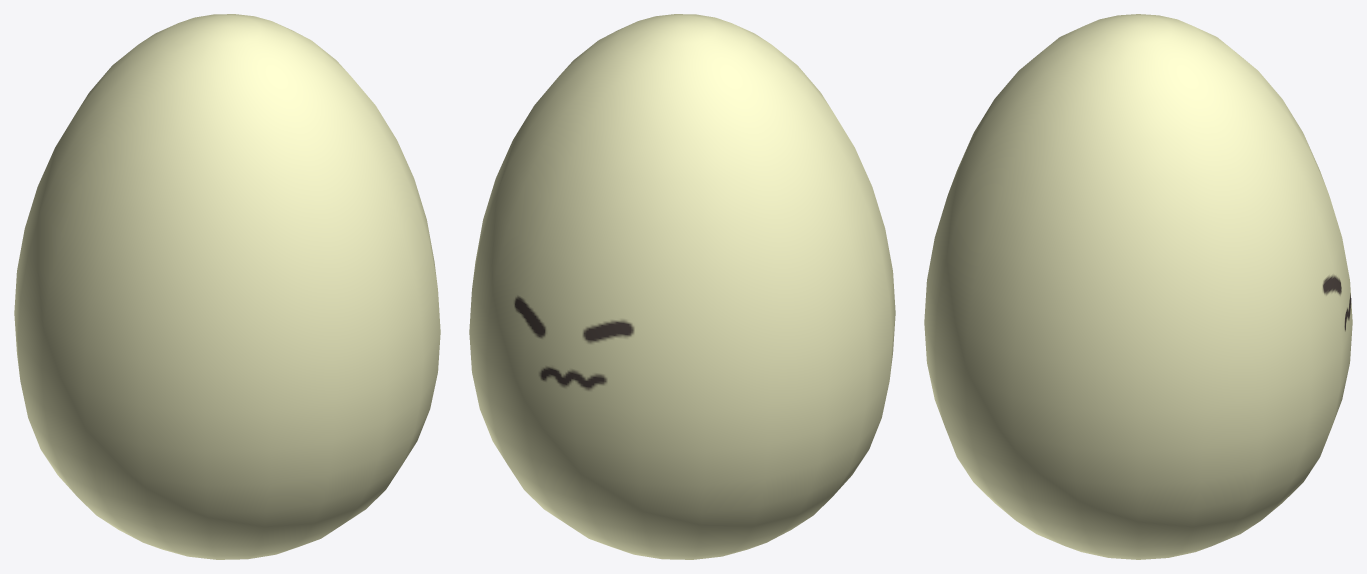
File: Oden_Egg.gltf
3 renders of one model, left to right at view 1: azimuth 30°, elevation 25°; view 2: azimuth 150°, elevation 25°; view 3: azimuth 270°, elevation 25°, orthographic.
Visible parts, largest first — view 1: Oden_Egg; view 2: Oden_Egg; view 3: Oden_Egg.
Boxes of the visible parts, bbox=[...] form: Oden_Egg: bbox=[14, 14, 440, 559]; Oden_Egg: bbox=[469, 14, 895, 559]; Oden_Egg: bbox=[924, 14, 1352, 559].
Bounding box in the file's own units: 1.45 × 1.92 × 1.45.
Materials: 1 (1 with a texture image).
